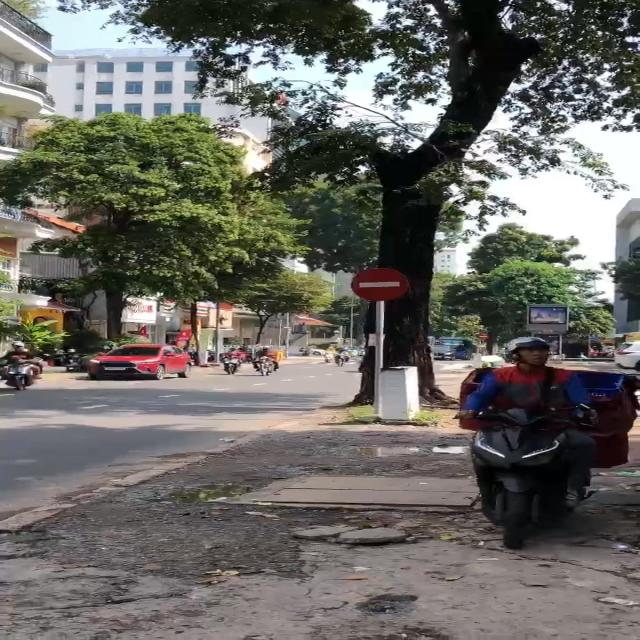Bien bao cam di nguoc chieu: (348, 264, 415, 304)
